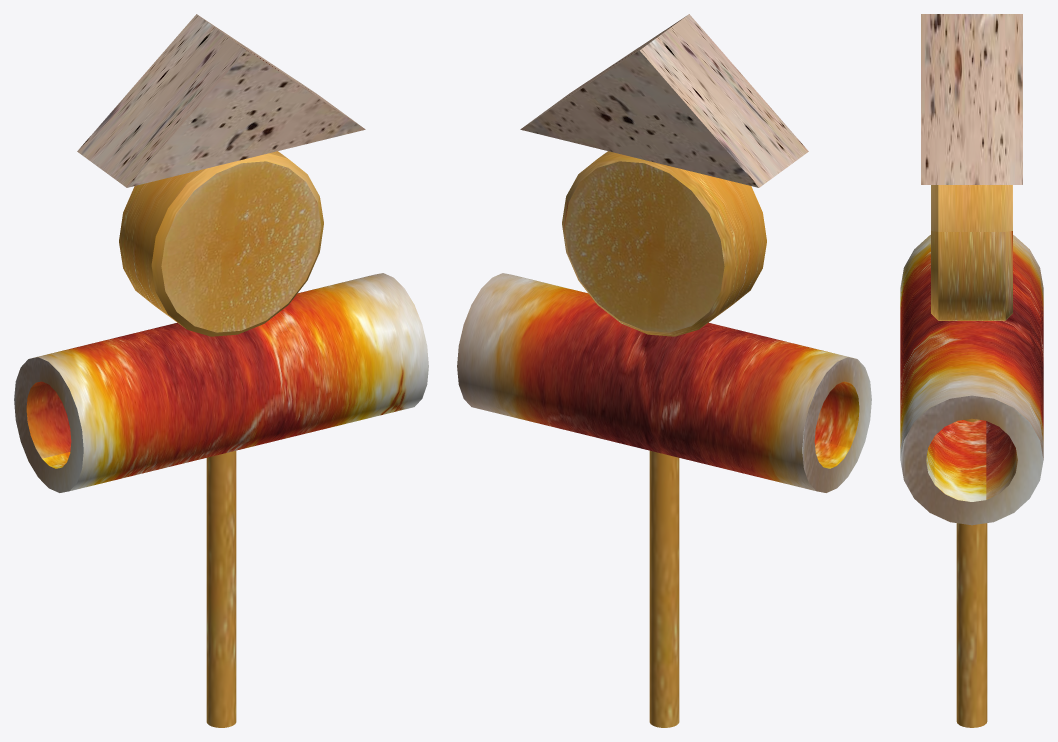
File: Oden4.fbx
The picture shows the model from 3 angles, left to right: view 1: azimuth 30°, elevation 25°; view 2: azimuth 150°, elevation 25°; view 3: azimuth 270°, elevation 25°; orthographic projection. The views are drawn at different scales.
Visible parts, largest first — view 1: pCylinder6; view 2: pCylinder6; view 3: pCylinder6.
Part boxes in pixels (<box>): pCylinder6: <box>14,14,428,727</box>; pCylinder6: <box>457,14,871,727</box>; pCylinder6: <box>900,14,1043,727</box>.
Size of the model in its own units: 4 by 7.64 by 1.4.
Materials: 1 (1 with a texture image).
